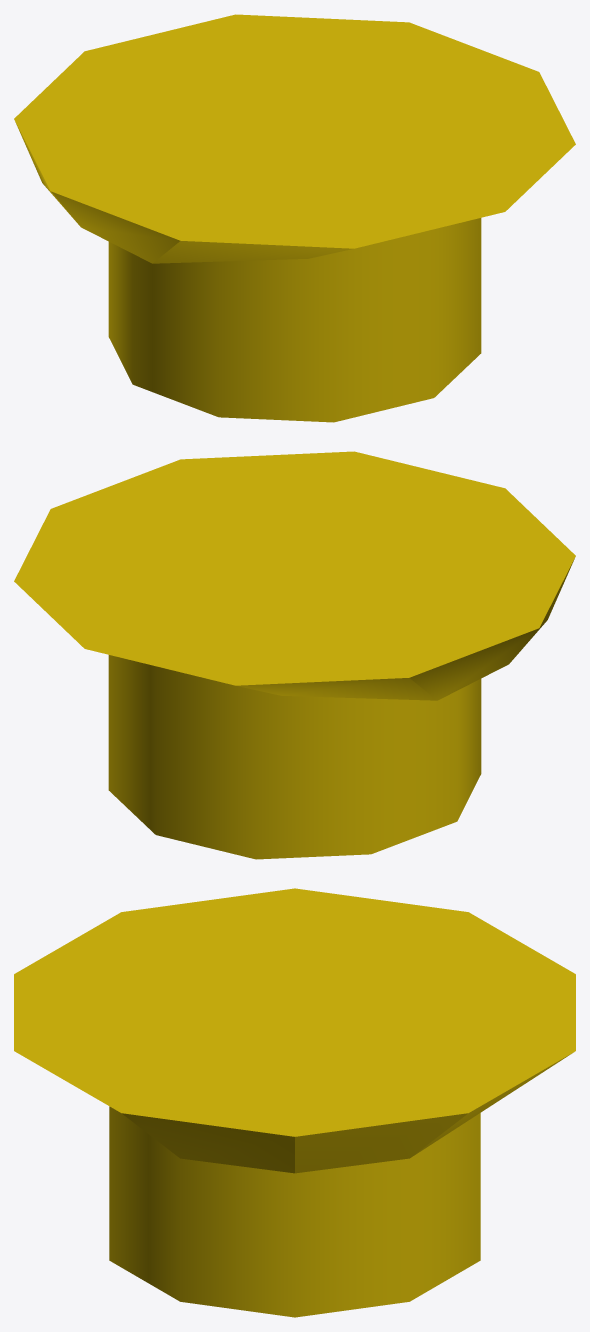
The model's file is Bouncer Cyl.obj.
3 renders of one model, top to bottom at view 1: azimuth 30°, elevation 25°; view 2: azimuth 150°, elevation 25°; view 3: azimuth 270°, elevation 25°, orthographic. The views are drawn at different scales.
Visible parts, largest first — view 1: Bouncer Cyl L_1, Bouncer Cyl L_0; view 2: Bouncer Cyl L_1, Bouncer Cyl L_0; view 3: Bouncer Cyl L_1, Bouncer Cyl L_0.
Boxes of the visible parts, <box> form: Bouncer Cyl L_1: <box>14,14,575,248</box>; Bouncer Cyl L_0: <box>15,121,481,422</box>; Bouncer Cyl L_1: <box>14,451,575,685</box>; Bouncer Cyl L_0: <box>108,558,574,859</box>; Bouncer Cyl L_1: <box>14,888,575,1136</box>; Bouncer Cyl L_0: <box>109,1053,572,1317</box>.
Bounding box in the file's own units: 3.01 × 1.26 × 2.88.
